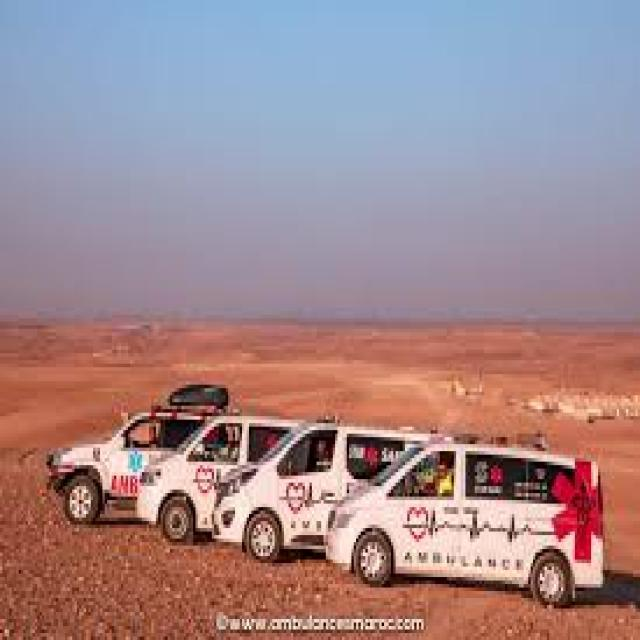ambulance: (328, 407, 608, 620), (212, 418, 402, 570), (136, 402, 275, 542)
